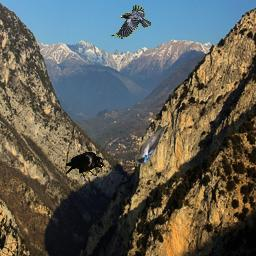Crow: (111, 4, 151, 39), (66, 151, 106, 182)
Swallow: (135, 124, 168, 164)
